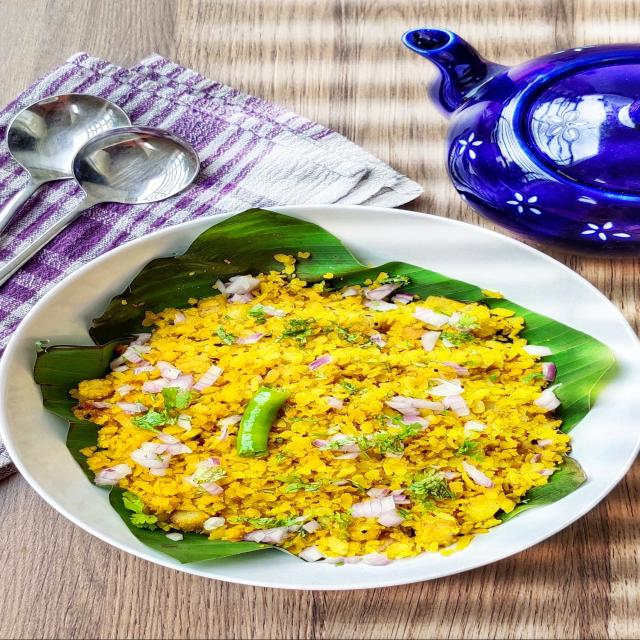POHA: (69, 258, 576, 557)
